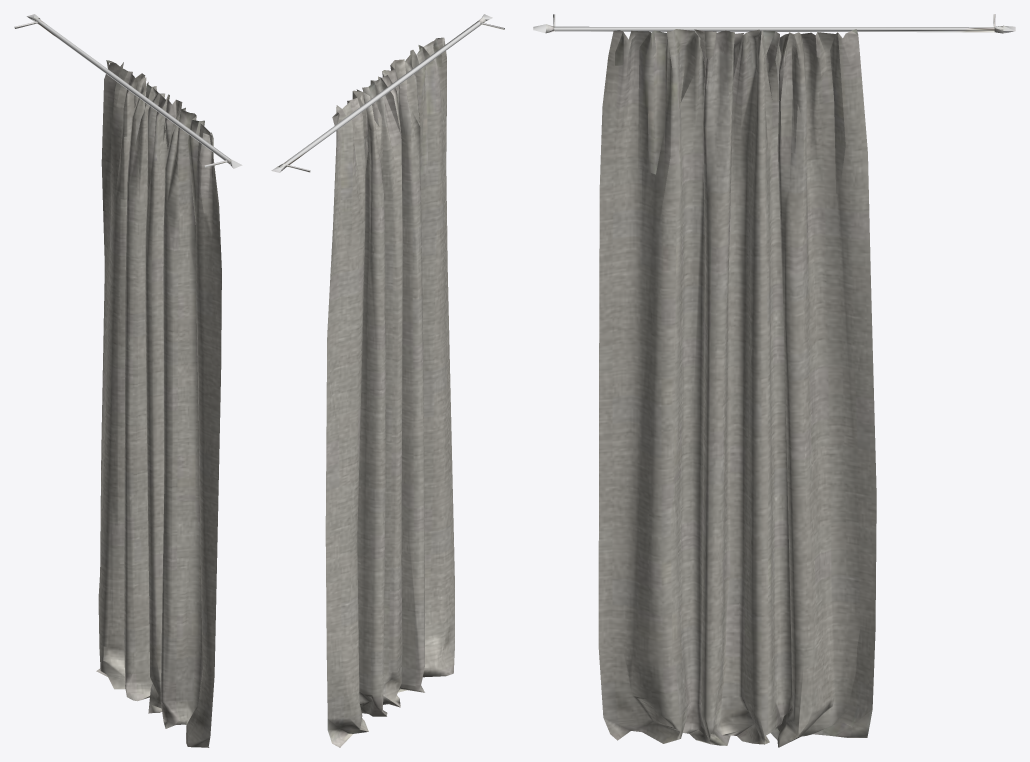
The model's file is Curtains0011.obj.
The picture shows the model from 3 angles, left to right: view 1: azimuth 30°, elevation 25°; view 2: azimuth 150°, elevation 25°; view 3: azimuth 270°, elevation 25°; orthographic projection. The views are drawn at different scales.
Size of the model in its own units: 0.235 by 2.7 by 1.65.
Materials: 1 (1 with a texture image).
